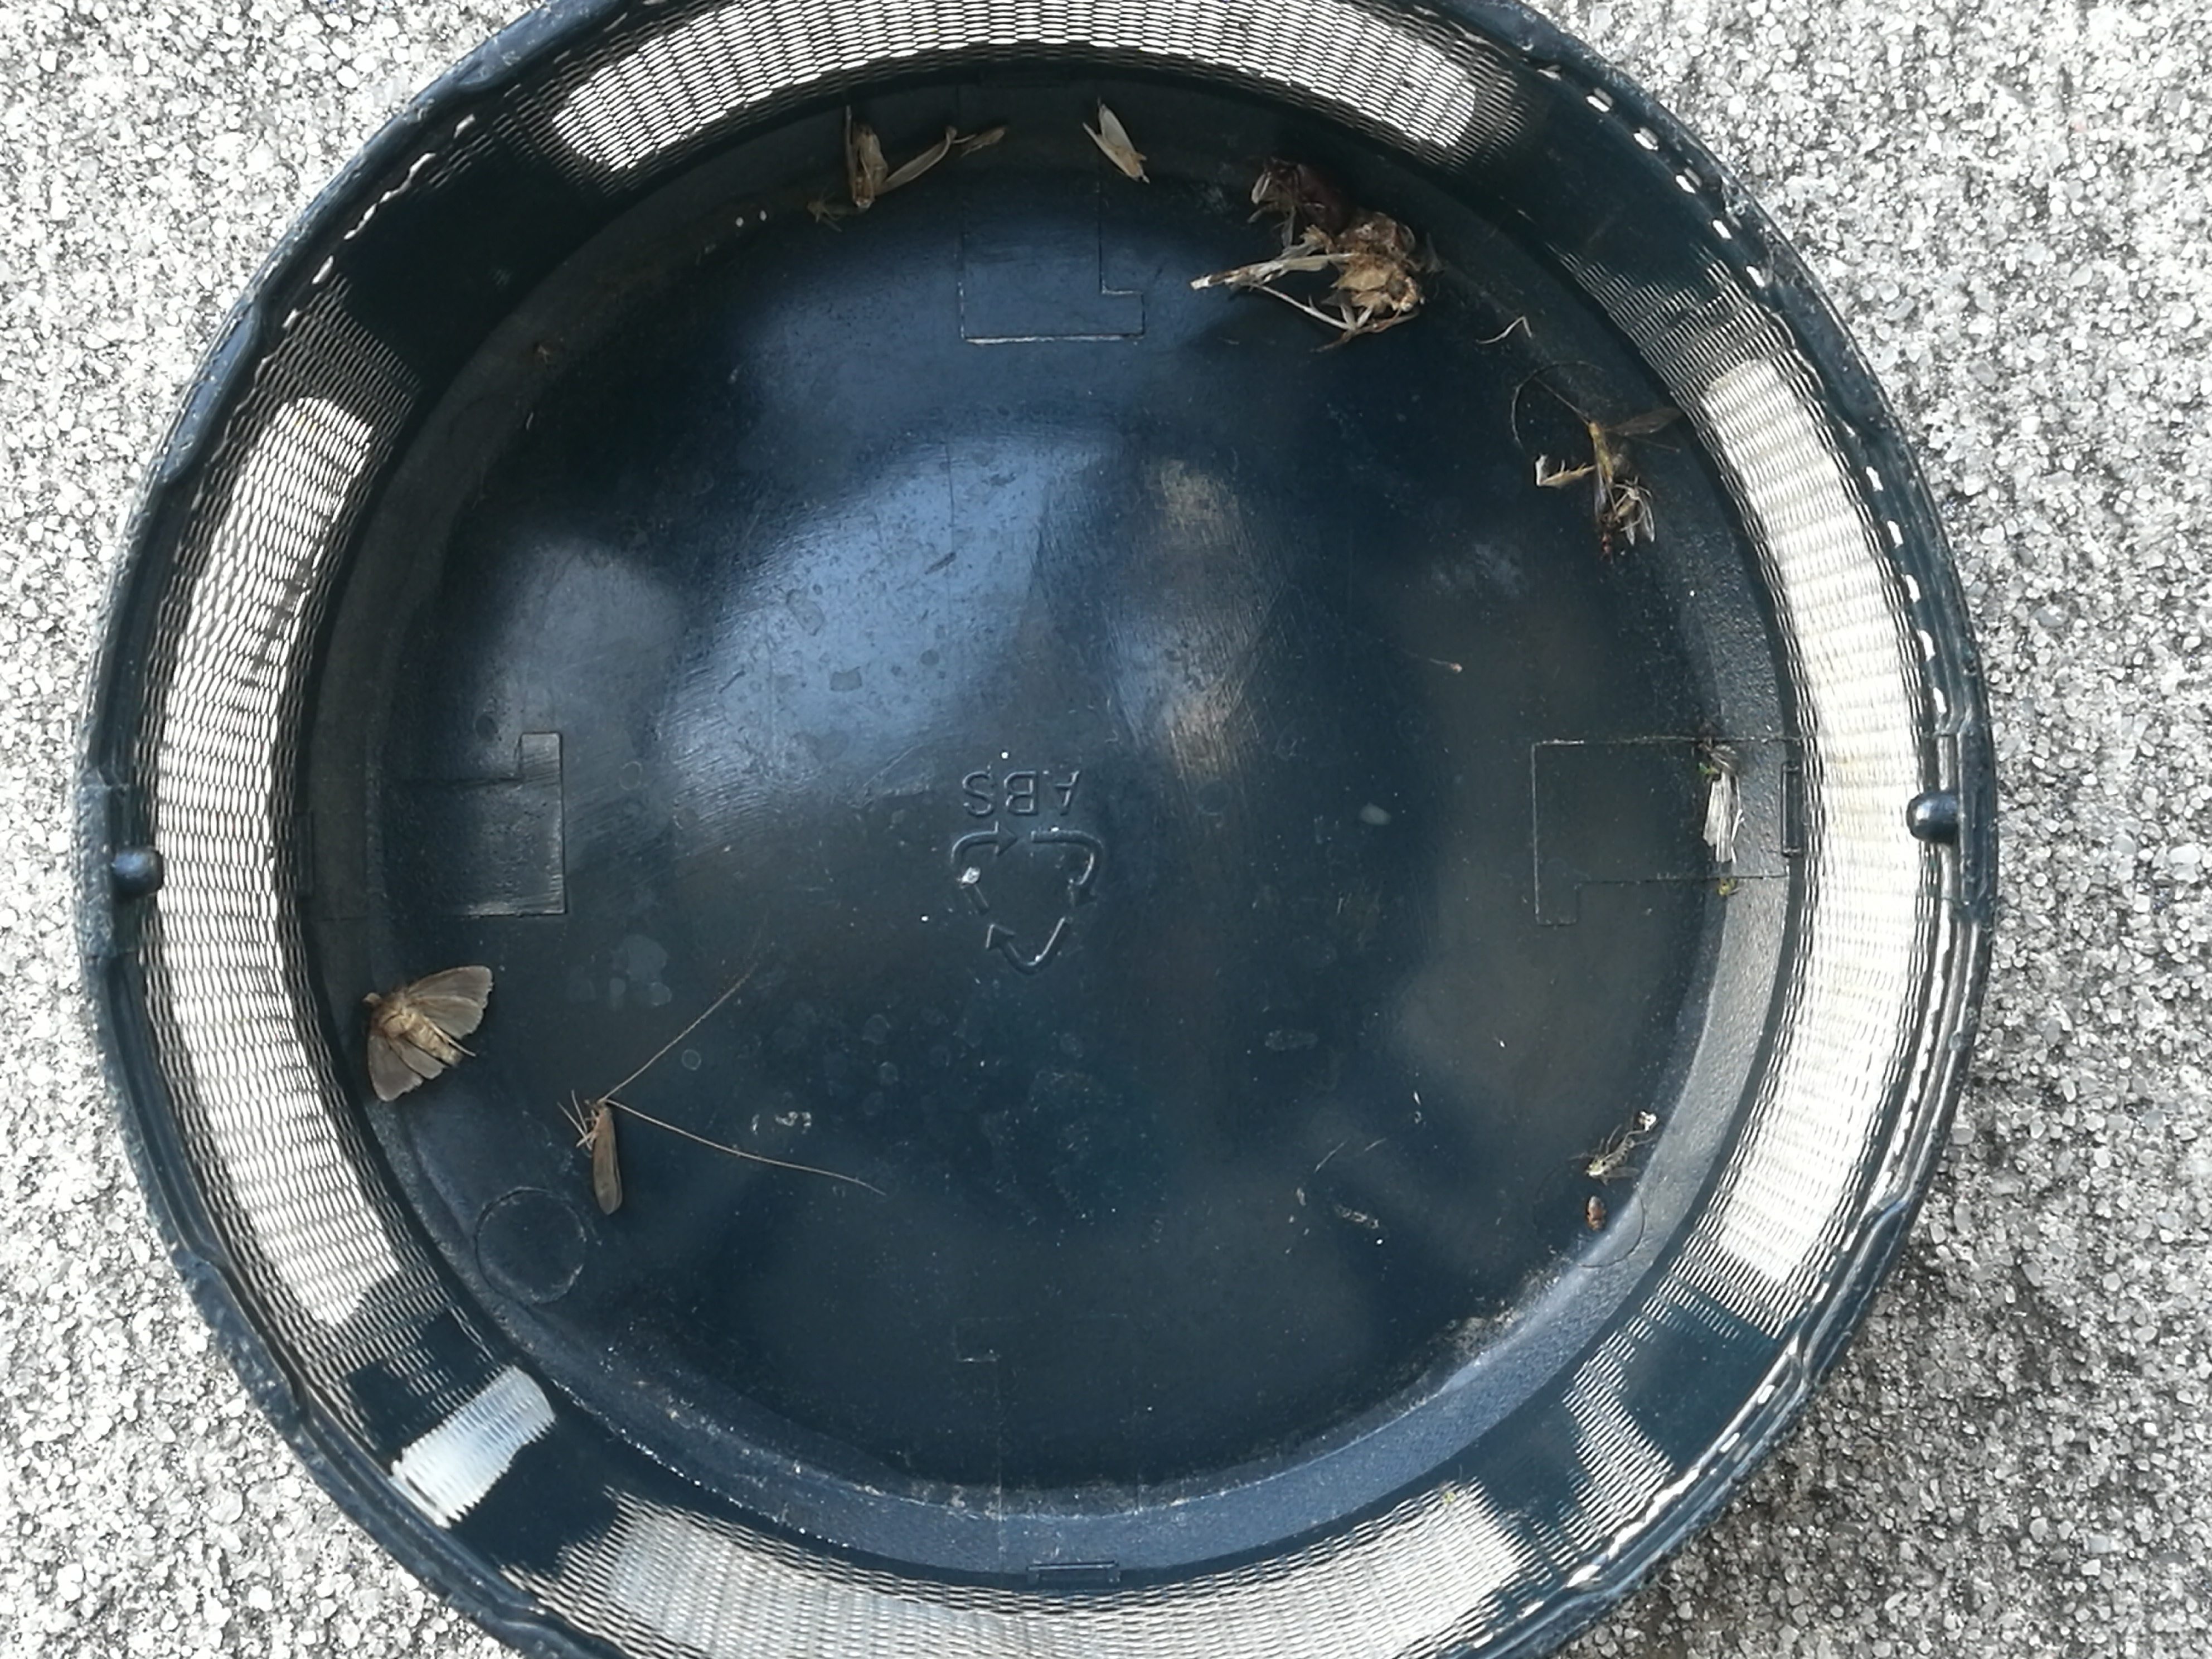beetle: (1275, 150, 1353, 228)
mosquito: (1082, 105, 1148, 185), (592, 1101, 624, 1213), (1702, 770, 1731, 857), (850, 129, 881, 207)
moth: (366, 967, 495, 1098)
